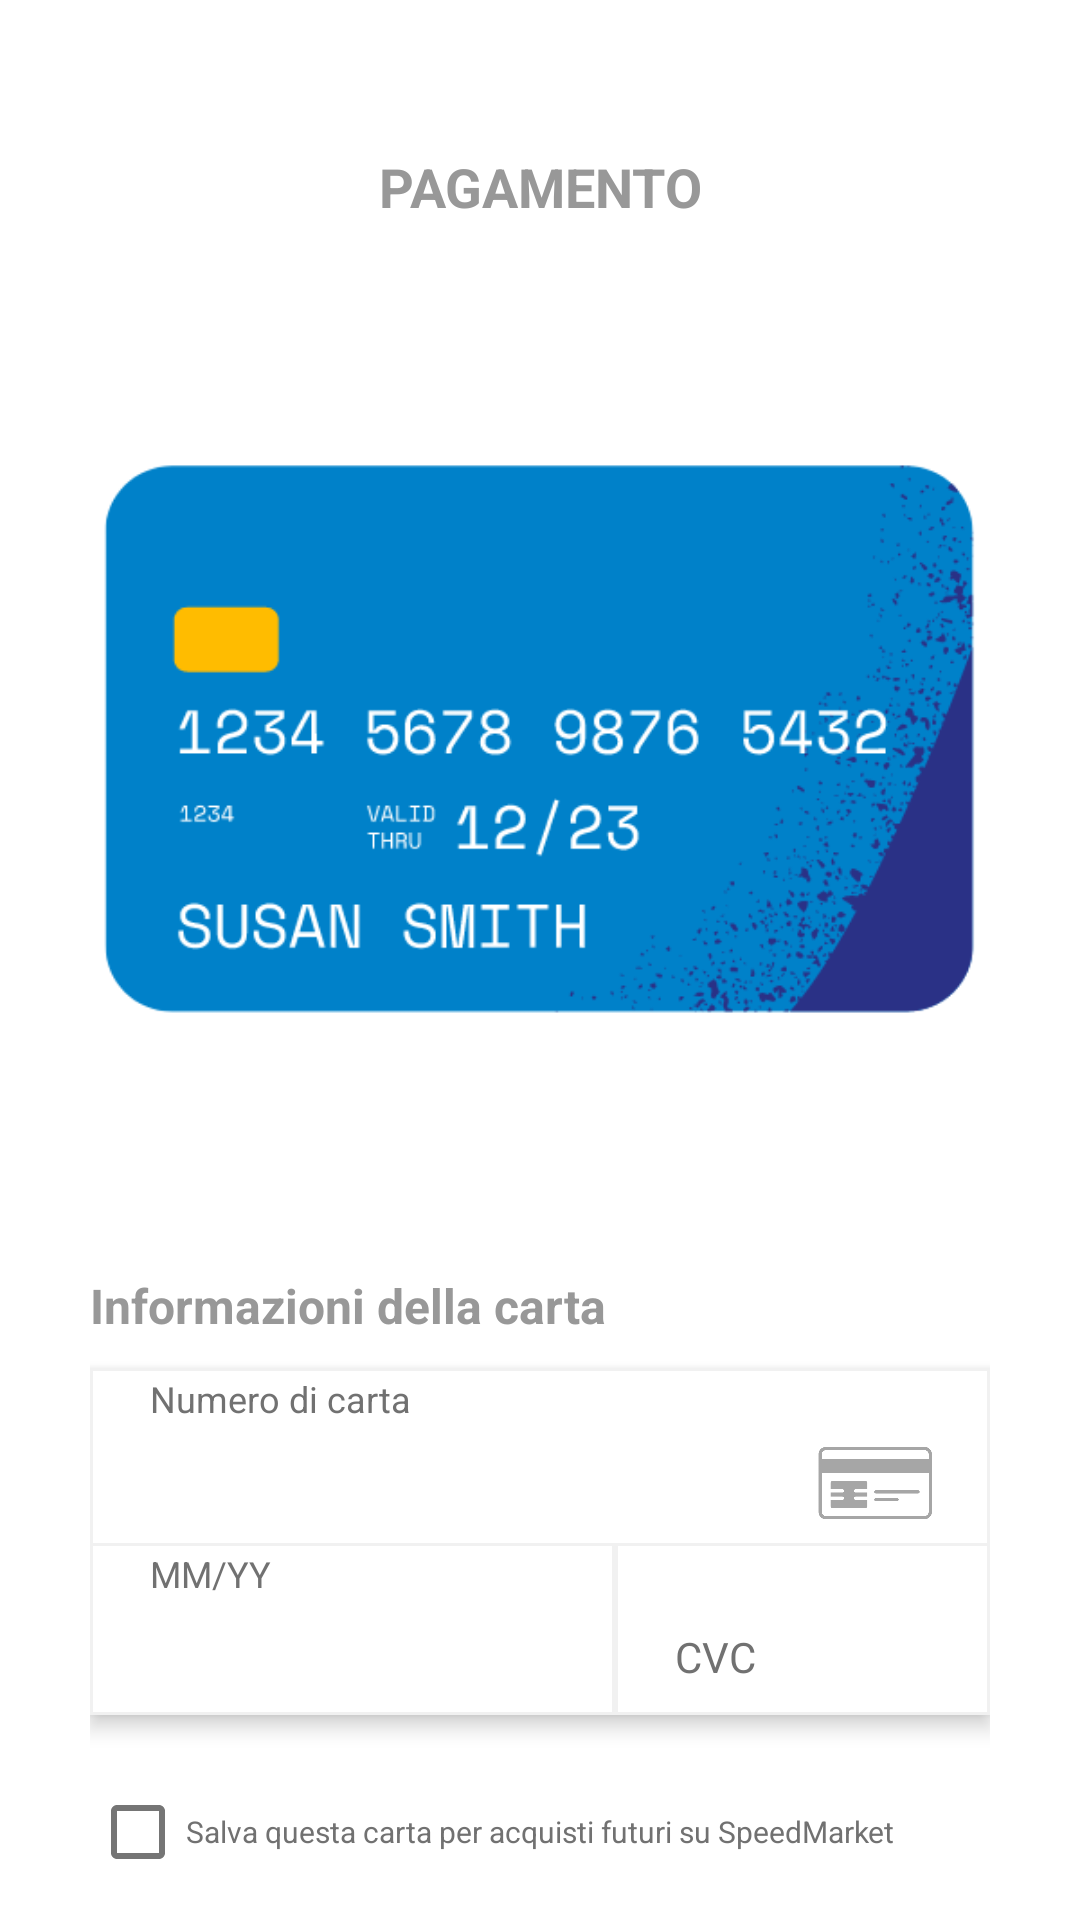

Named icons in this screenshot (1080 × 1920) and their bounding boxes, (x1, y1, x2, y2):
carta stilizzata: (818, 1447, 932, 1519)
